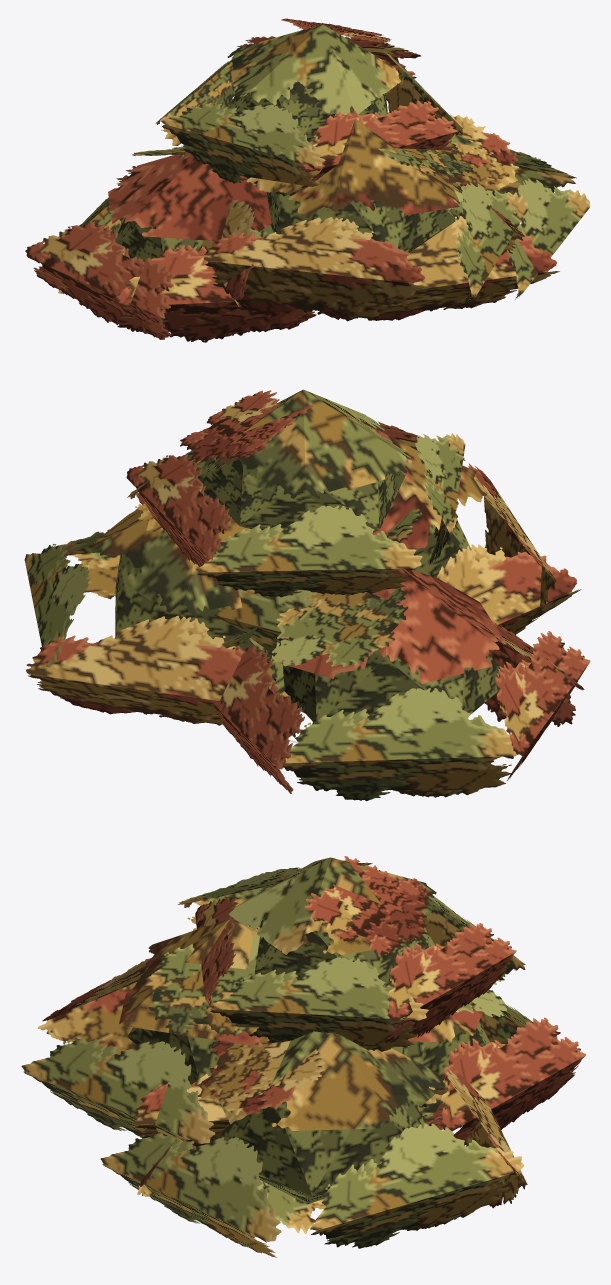
File: SM_VG08_BushRound.fbx
3 renders of one model, top to bottom at view 1: azimuth 30°, elevation 25°; view 2: azimuth 150°, elevation 25°; view 3: azimuth 270°, elevation 25°, orthographic. The views are drawn at different scales.
Visible parts, largest first — view 1: VG08_Bush; view 2: VG08_Bush; view 3: VG08_Bush.
Part boxes in pixels (box(x1,y1,x2,y2)): VG08_Bush: box(25, 18, 590, 342); VG08_Bush: box(24, 389, 590, 801); VG08_Bush: box(21, 856, 586, 1257).
Bounding box in the file's own units: 1.29 × 0.7448 × 1.15.
